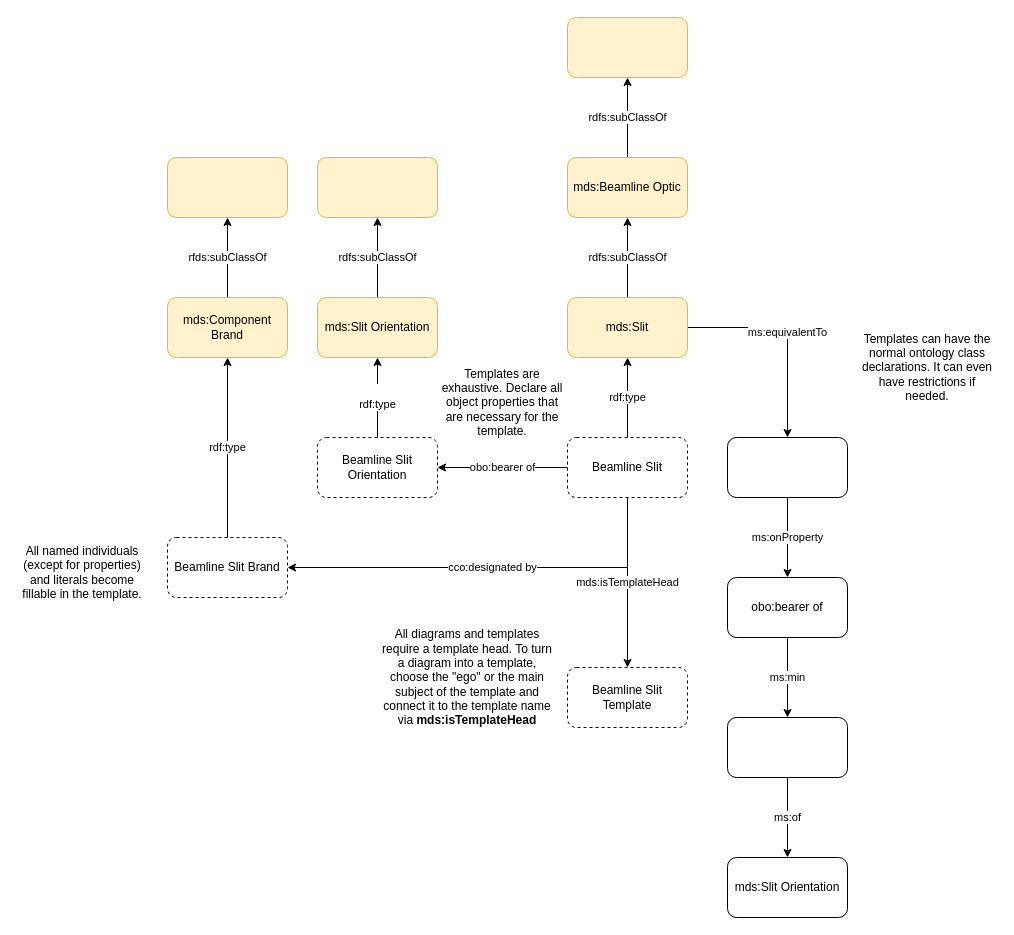
This 1014x935 diagram has some shape labels left out. The shapes that lost their labels are listed below. From the top down, each one's centre as x and y in pixels, then its label:
(x=627, y=47): cco:Material Artifact
(x=227, y=187): mds:Name
(x=377, y=187): cco:Spatial Orientation
(x=787, y=467): owl:Restriction
(x=787, y=747): "1"^^xsd:integer
